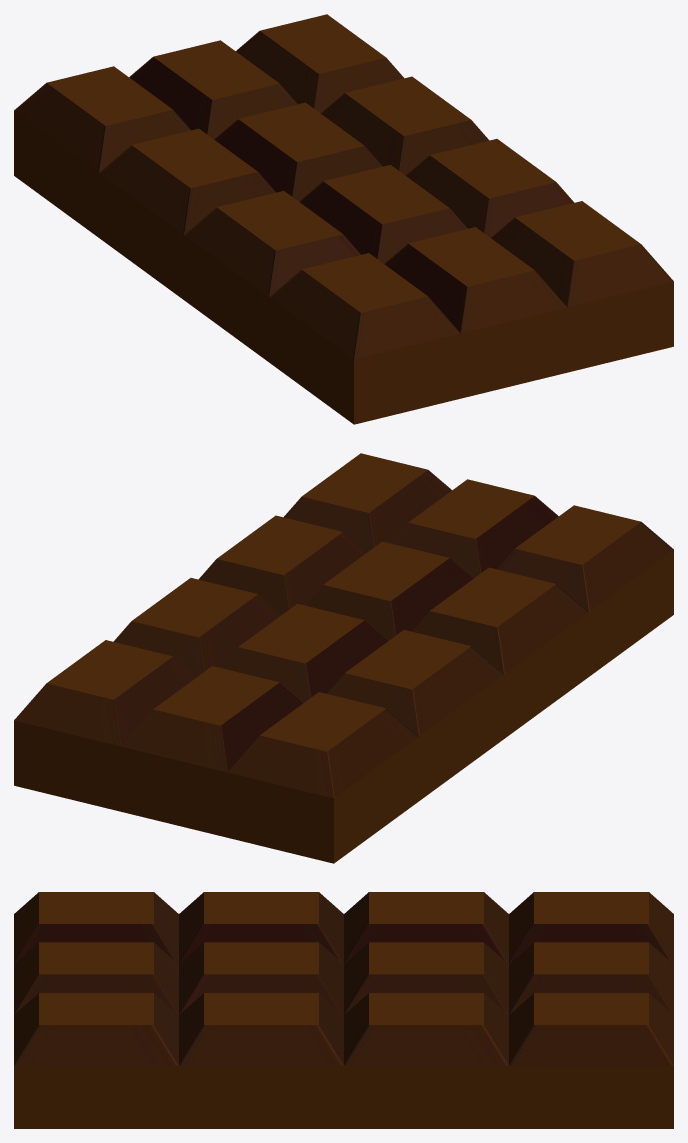
The model's file is chocolate_model1.fbx.
3 renders of one model, top to bottom at view 1: azimuth 30°, elevation 25°; view 2: azimuth 150°, elevation 25°; view 3: azimuth 270°, elevation 25°, orthographic. The views are drawn at different scales.
Parts seen in each view (by area): view 1: Chocolate; view 2: Chocolate; view 3: Chocolate.
Part boxes in pixels (left/top/right/bottom): Chocolate: left=14, top=14, right=673, bottom=424; Chocolate: left=14, top=453, right=673, bottom=863; Chocolate: left=14, top=892, right=673, bottom=1128.
Size of the model in its own units: 15.61 by 28.74 by 4.55.
